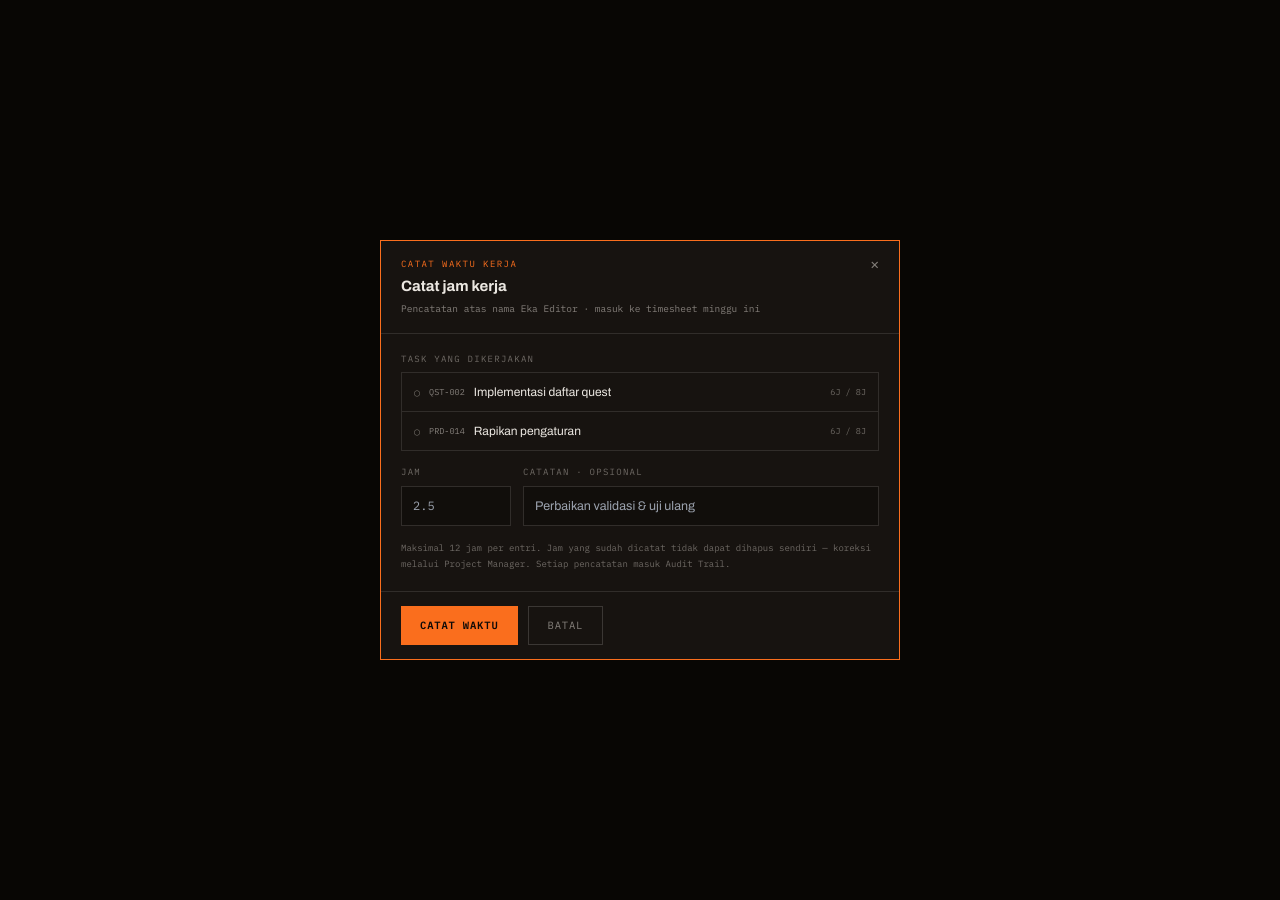
LogTimeModal › 13 jam ditolak dengan pesan maksimal 12 jam
Click the option "○ QST-002 Implementasi daftar quest 6J / 8J". click: (447, 391)
box: [414,385,866,399]
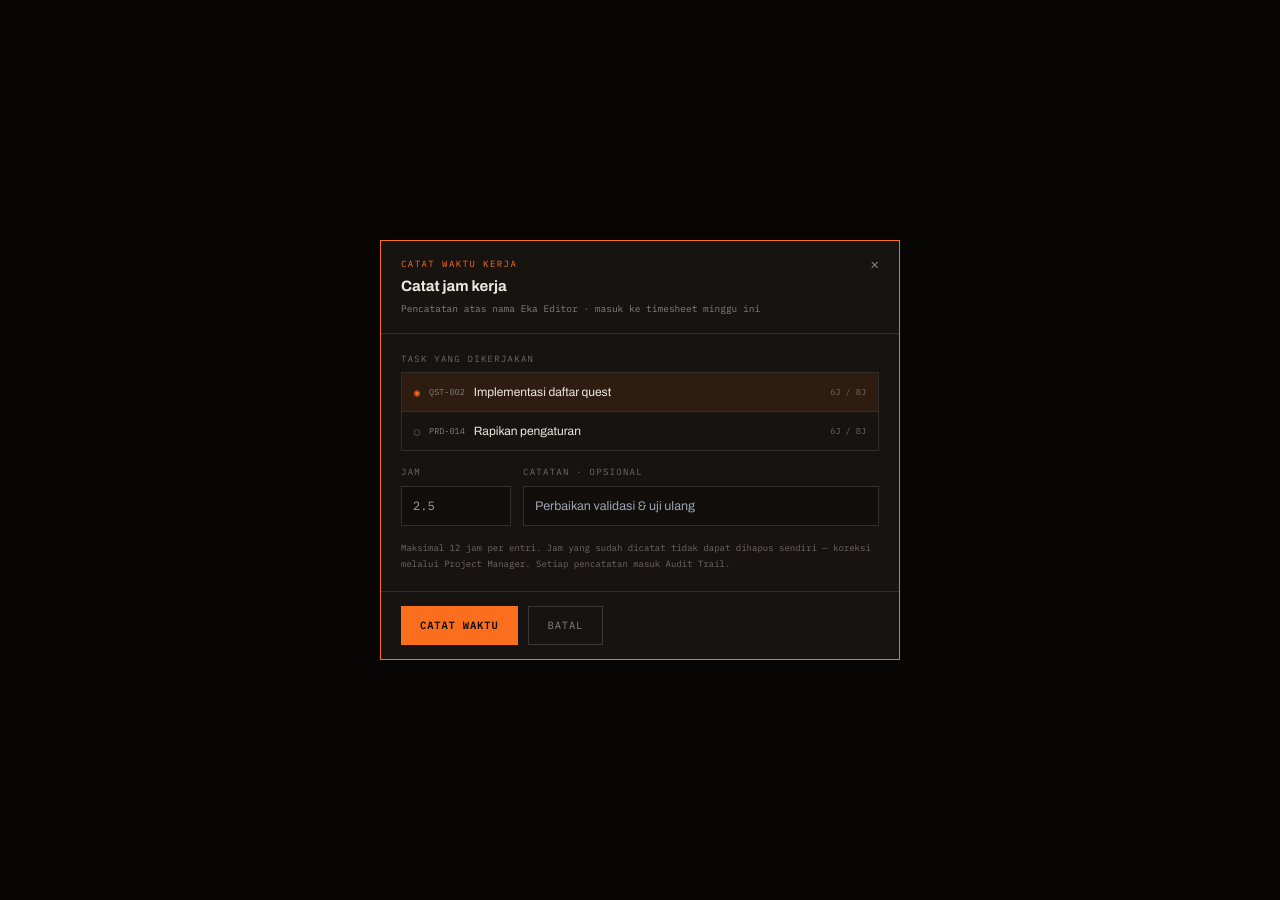
Type "13" into the field labelled "JAM". click: (456, 506)
box: [401,486,511,526]
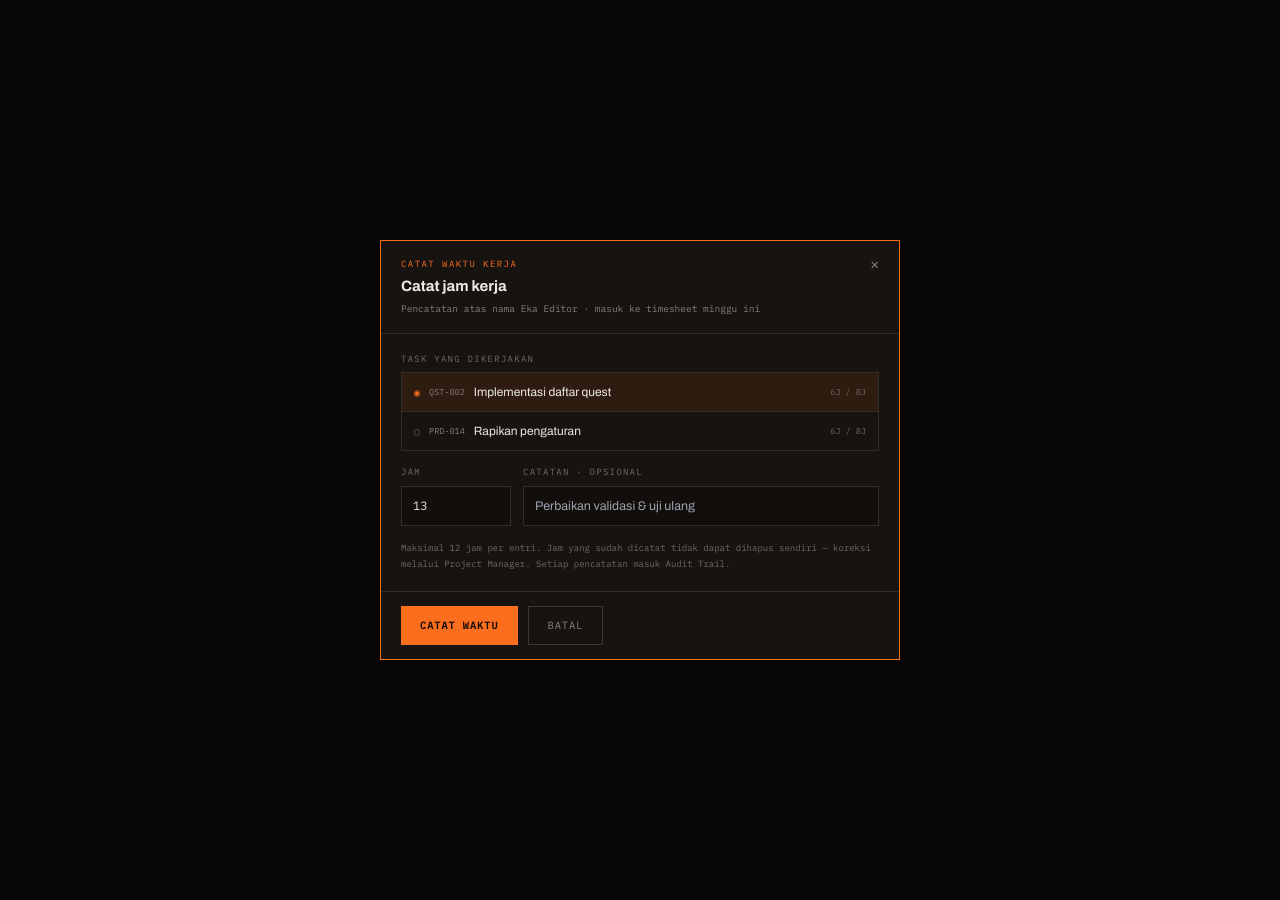
Click the button "CATAT WAKTU". click: (459, 626)
box: [401,606,518,646]
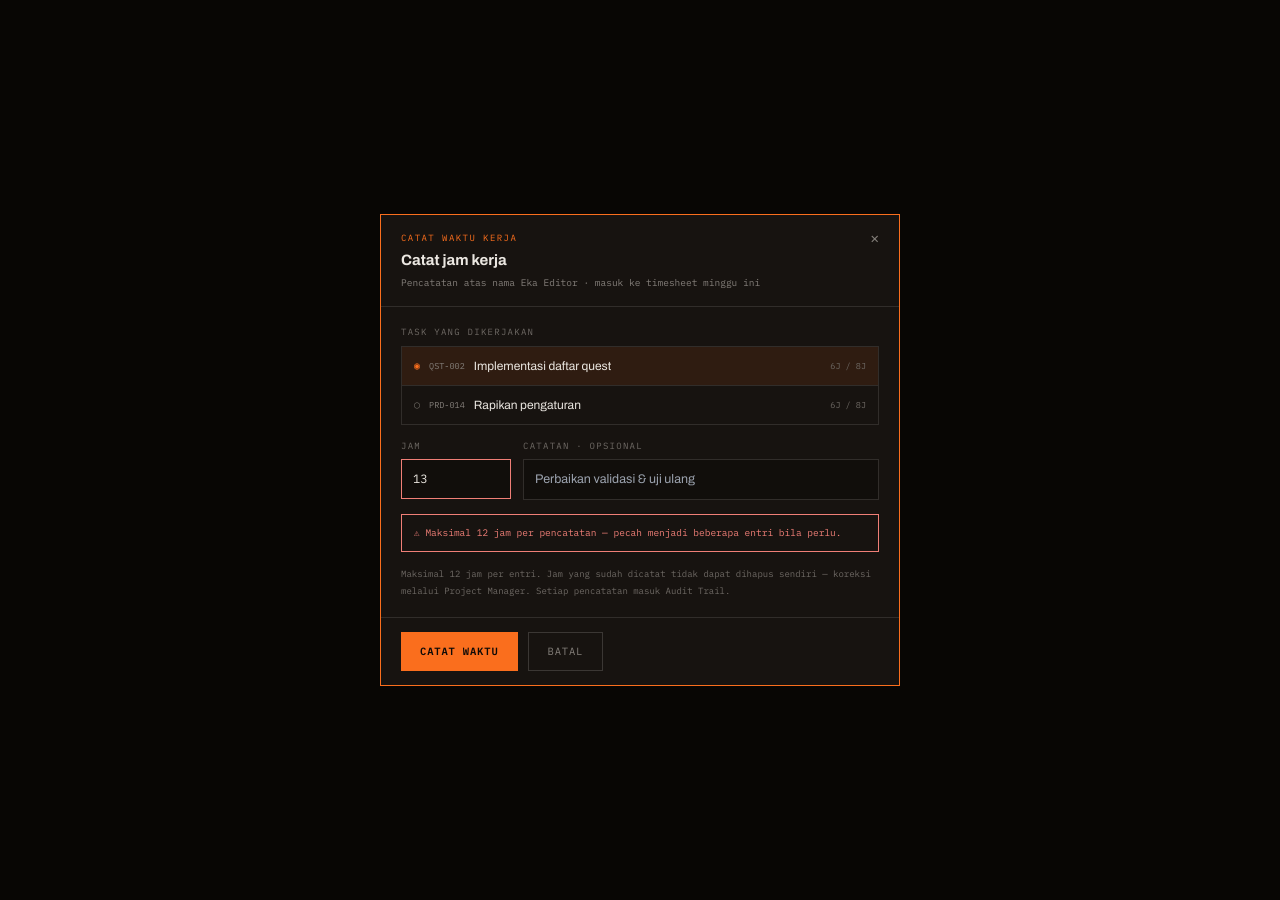
Result: the text "Maksimal 12 jam per pencatatan" is shown at [425,526,842,539]
